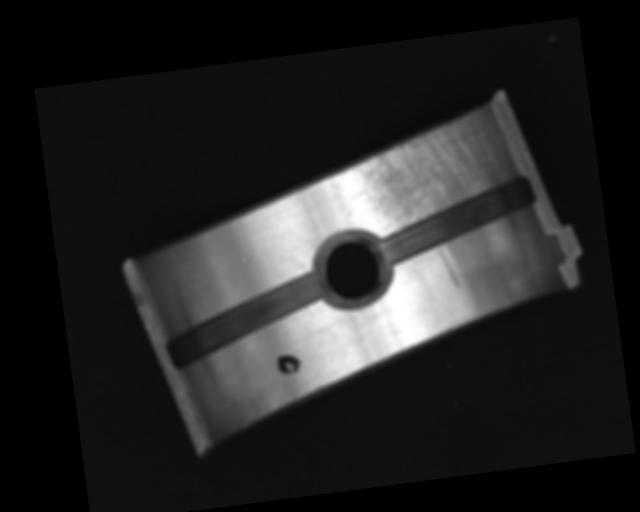blot: (275, 351, 302, 377)
bruise: (242, 254, 252, 266)
gap: (159, 269, 332, 370), (371, 175, 540, 265)
hole: (310, 227, 394, 313)
nick: (436, 241, 461, 291), (289, 226, 320, 253)
scratch: (339, 103, 511, 236)
